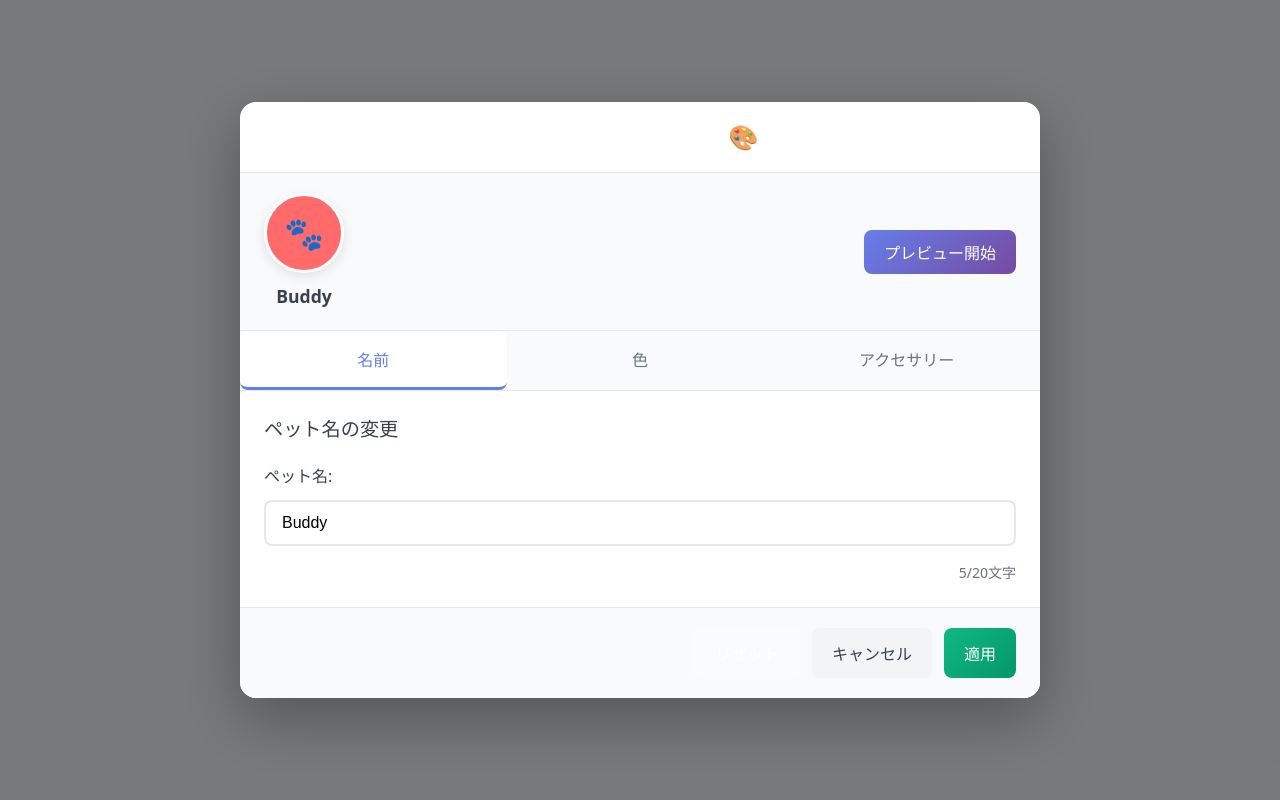
CustomizationPanel › エラーハンドリング › should display accessory error
Click the button "アクセサリー" at {"x": 907, "y": 360}, box [773,331,1040,390]
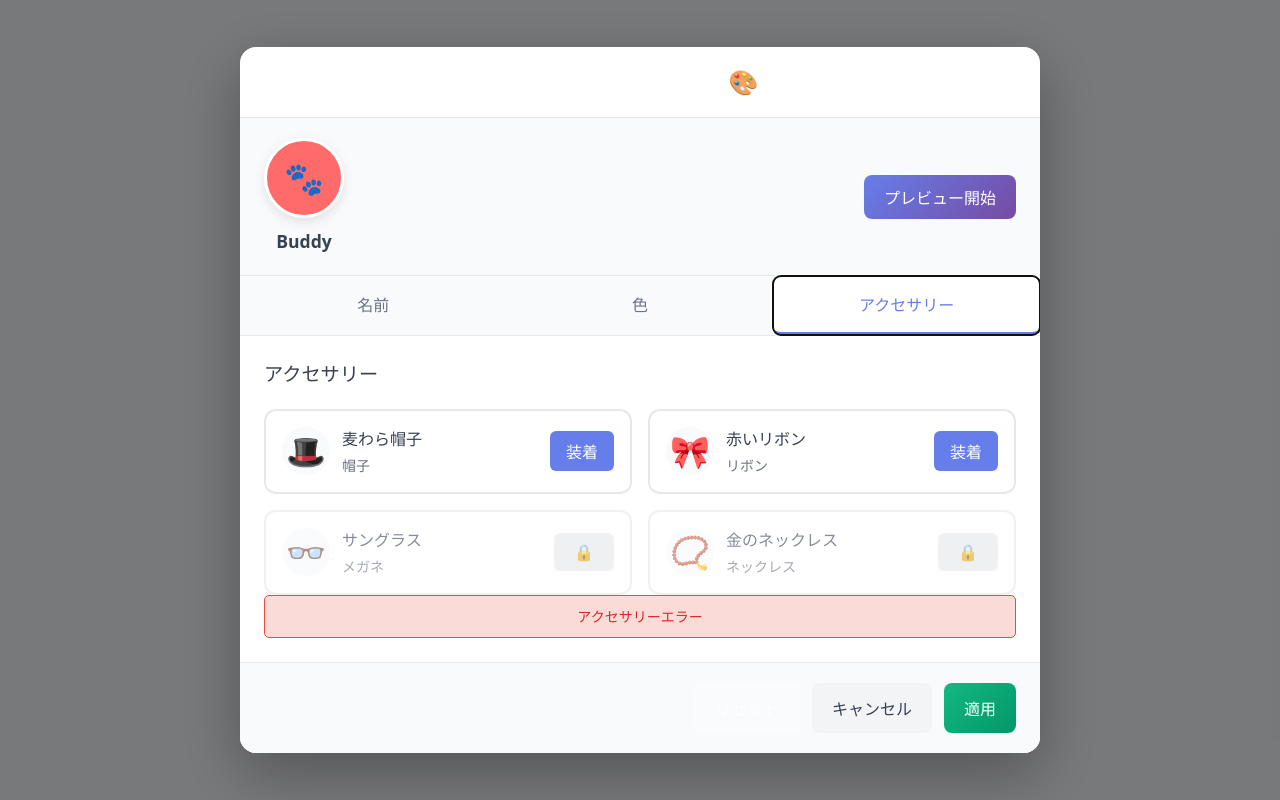
Check: the text "アクセサリーエラー" is shown, box [264,595,1016,638]
